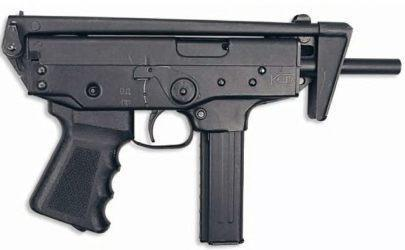gun: (2, 5, 402, 242)
